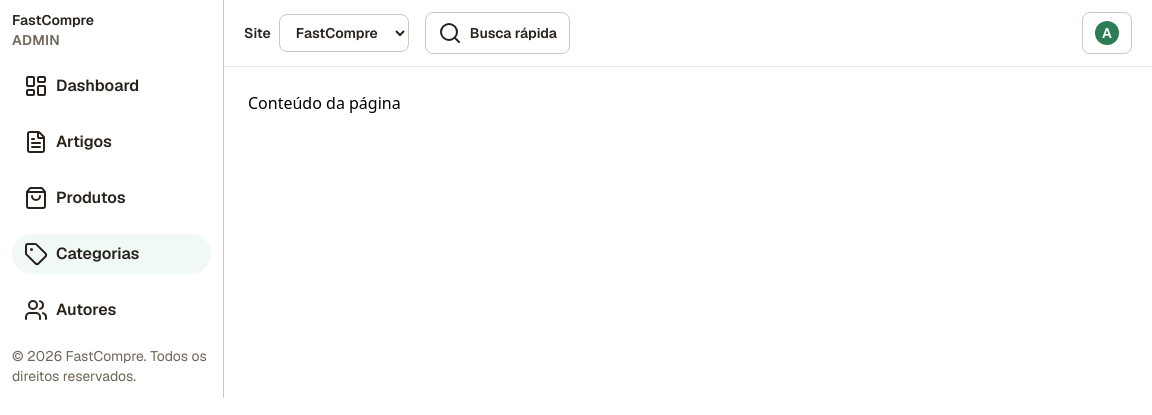
Scenario: AuthenticatedShell › logout: falha mostra mensagem genérica, sem redirect, botão reabilitado
The width and height of the screenshot is (1152, 415).
Click the button named "Menu do usuário" at [1107, 33], box [1082, 12, 1132, 54]
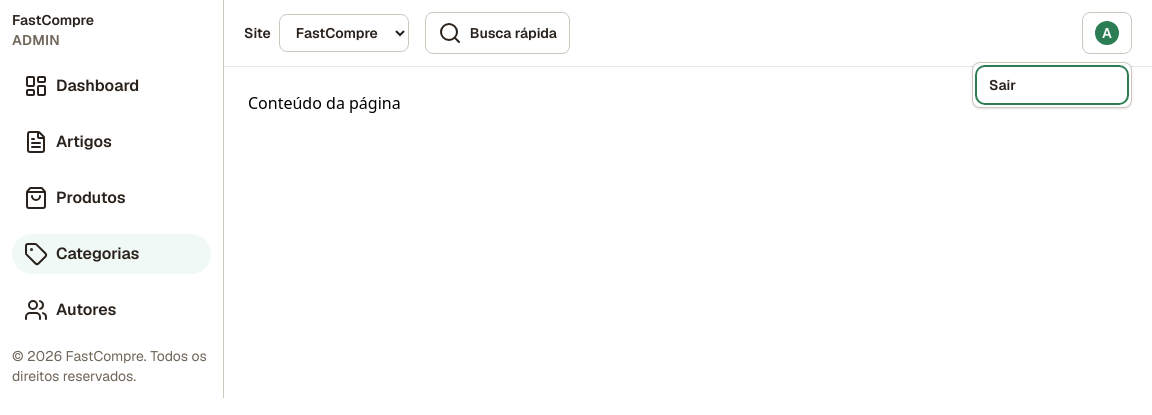
Click the menu item "Sair" at [1052, 85], box [977, 67, 1127, 103]
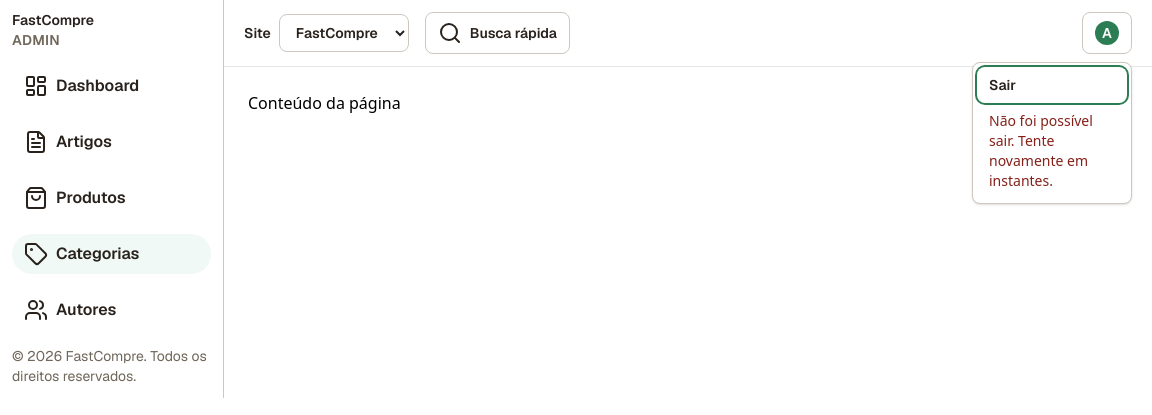
expect the menu item "Sair" is enabled: met, box [977, 67, 1127, 103]
expect the menu is shown: met, box [972, 62, 1132, 204]
expect the message reads "Não foi possível sair. Tente novamente em instantes.": met, box [989, 111, 1093, 190]
